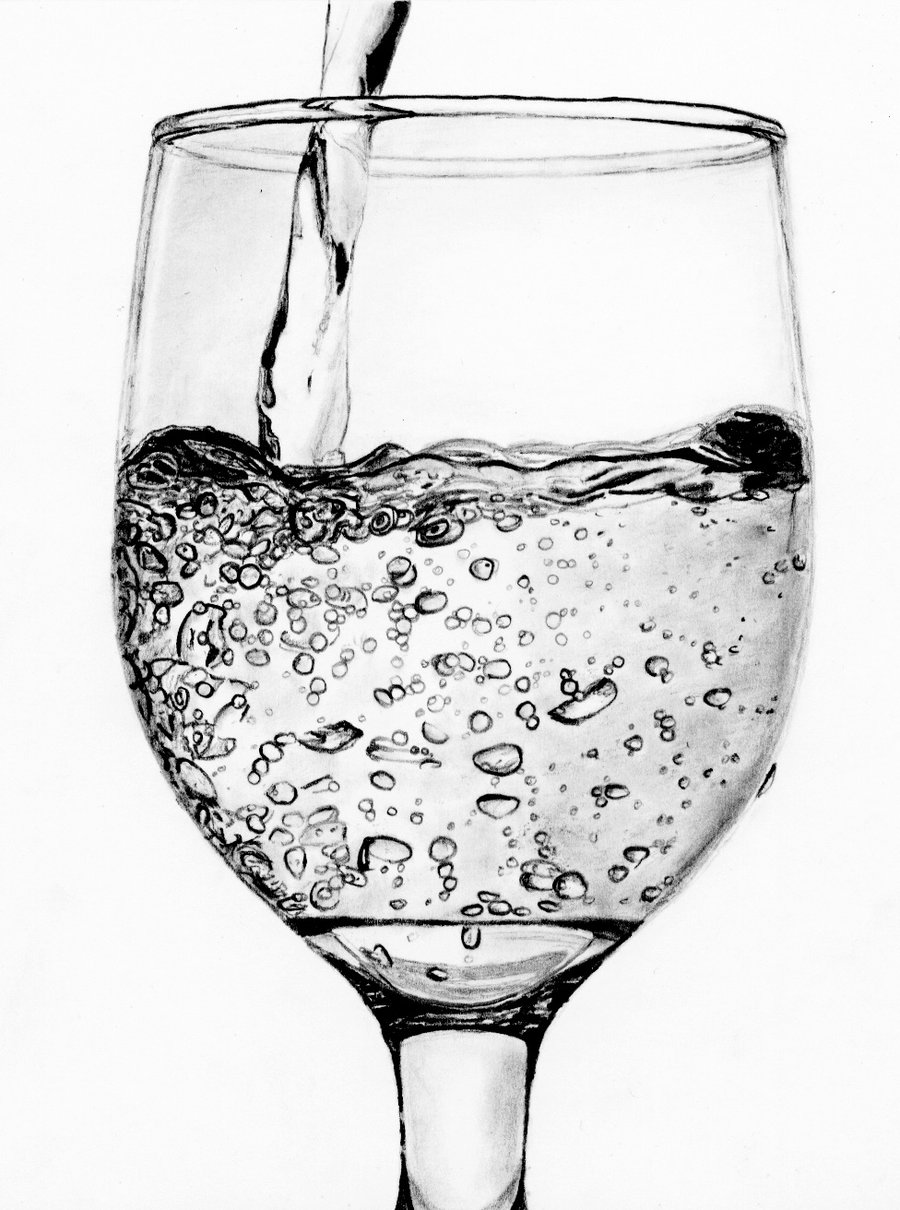glass of water: (166, 153, 763, 991)
